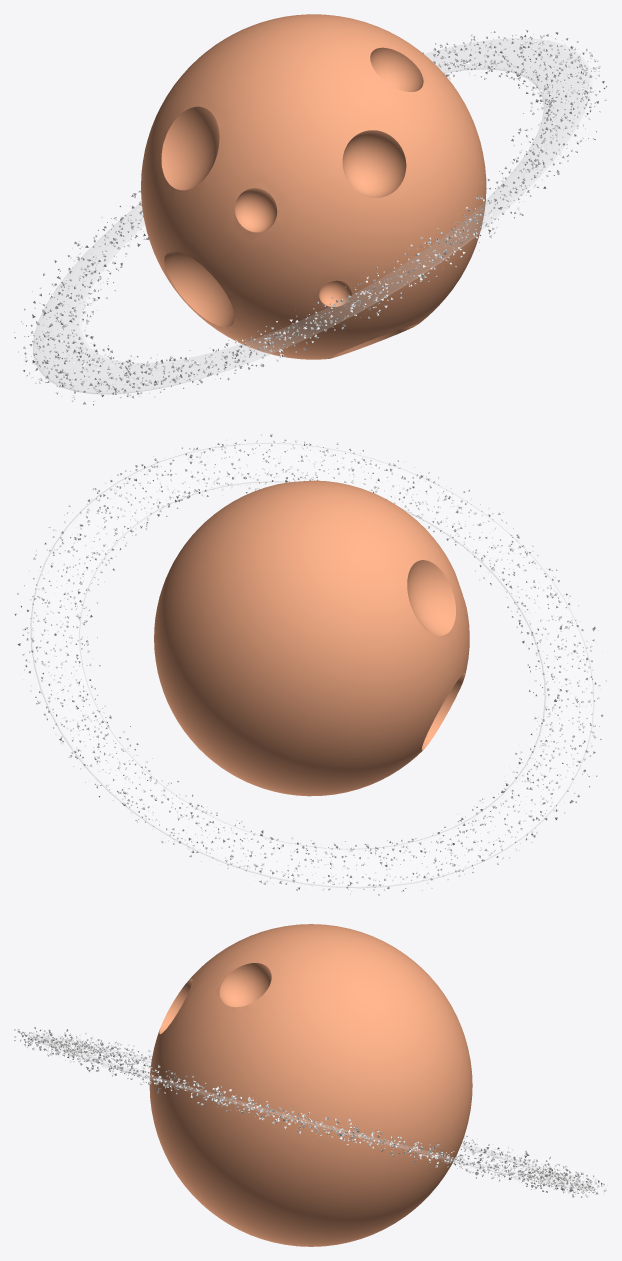
3 views of the same model, one above another, from view 1: azimuth 30°, elevation 25°; view 2: azimuth 150°, elevation 25°; view 3: azimuth 270°, elevation 25° (orthographic). The views are drawn at different scales.
Parts seen in each view (by area): view 1: Polyhedron & Polyhedron 1 & Polyhedron 2 & Polyhedron 3 & Po, Ring, Particles Baked; view 2: Polyhedron & Polyhedron 1 & Polyhedron 2 & Polyhedron 3 & Po, Ring, Particles Baked; view 3: Polyhedron & Polyhedron 1 & Polyhedron 2 & Polyhedron 3 & Po, Particles Baked, Ring.
Part boxes in pixels (x1,y1,x2,y2): Polyhedron & Polyhedron 1 & Polyhedron 2 & Polyhedron 3 & Po: (141, 14, 486, 359); Ring: (33, 38, 592, 394); Particles Baked: (14, 30, 607, 405); Polyhedron & Polyhedron 1 & Polyhedron 2 & Polyhedron 3 & Po: (154, 480, 469, 796); Ring: (30, 443, 593, 887); Particles Baked: (14, 434, 607, 895); Polyhedron & Polyhedron 1 & Polyhedron 2 & Polyhedron 3 & Po: (149, 924, 472, 1246); Particles Baked: (14, 1027, 607, 1197); Ring: (29, 1035, 594, 1190).
Bounding box in the file's own units: 0.1788 × 0.1017 × 0.1839.
